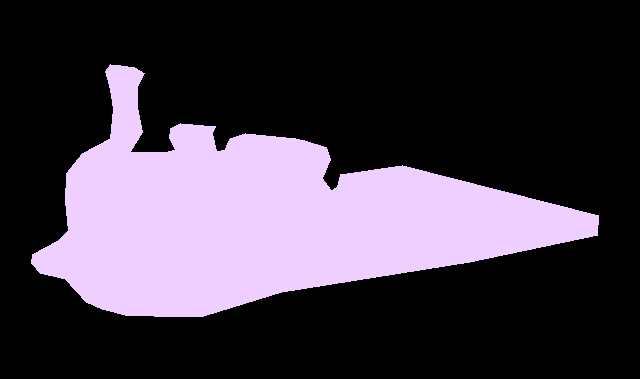Train: (31, 64, 599, 316)
